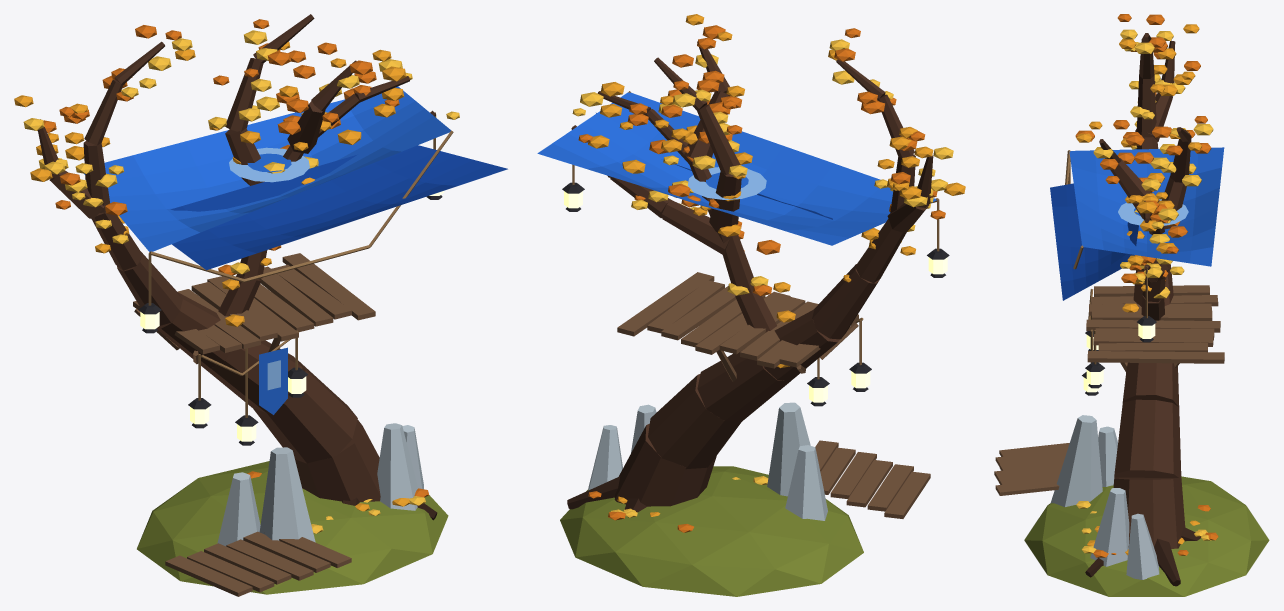
Rendered from roost.glb.
3 renders of one model, left to right at view 1: azimuth 30°, elevation 25°; view 2: azimuth 150°, elevation 25°; view 3: azimuth 270°, elevation 25°, orthographic. The views are drawn at different scales.
Parts seen in each view (by area): view 1: perch_canopy, perch_tree, perch_mound, perch_planks, perch_leaves, perch_lanterns, perch_banner; view 2: perch_tree, perch_mound, perch_canopy, perch_leaves, perch_planks, perch_lanterns; view 3: perch_mound, perch_tree, perch_canopy, perch_planks, perch_leaves, perch_lanterns.
Boxes of the visible parts, x1,y1,x2,y2 form: perch_canopy: (84,86,507,270); perch_tree: (38,14,437,520); perch_mound: (137,423,448,594); perch_planks: (133,253,375,596); perch_leaves: (14,19,459,533); perch_lanterns: (138,112,453,445); perch_banner: (259,347,287,414); perch_tree: (567,42,933,517); perch_mound: (560,402,863,596); perch_canopy: (537,92,936,245); perch_leaves: (572,14,965,532); perch_planks: (617,272,930,518); perch_lanterns: (562,91,949,406); perch_mound: (1024,415,1269,596); perch_tree: (1085,33,1200,586); perch_canopy: (1050,147,1224,300); perch_planks: (994,285,1224,495); perch_leaves: (1075,14,1218,557); perch_lanterns: (1065,150,1156,395).
Bounding box in the file's own units: 3.47 × 4.2 × 2.23.
